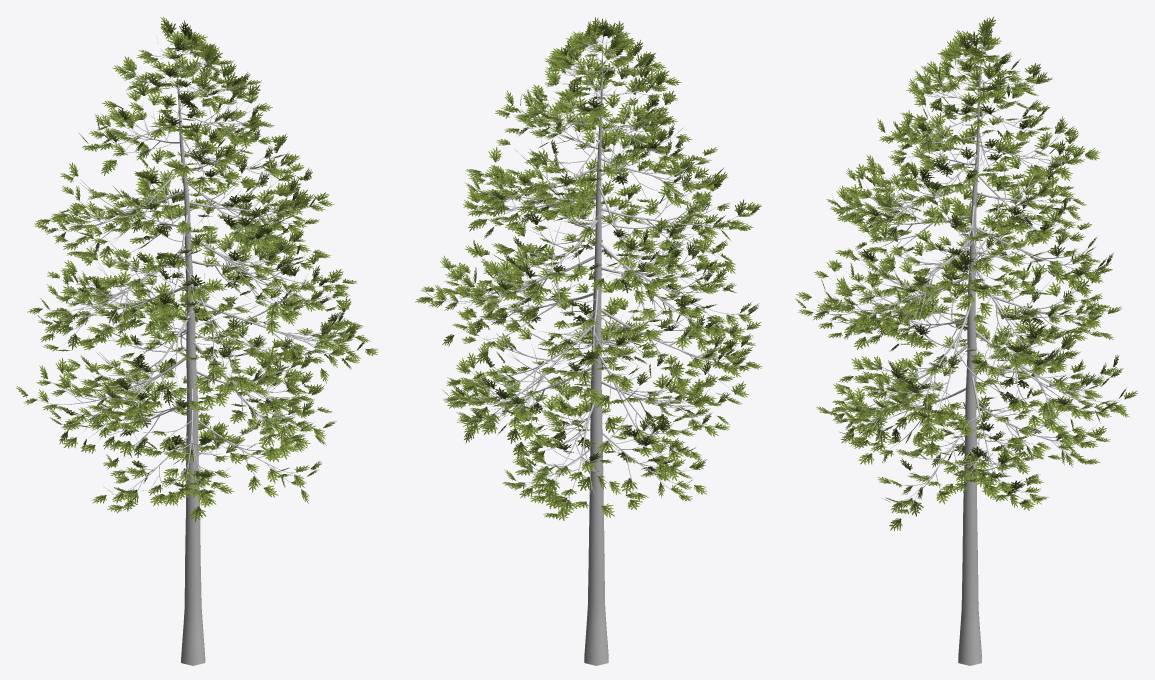
Rendered from Arbol4.fbx.
3 renders of one model, left to right at view 1: azimuth 30°, elevation 25°; view 2: azimuth 150°, elevation 25°; view 3: azimuth 270°, elevation 25°, orthographic. The views are drawn at different scales.
Parts seen in each view (by area): view 1: leaves.003, tree.003; view 2: leaves.003, tree.003; view 3: leaves.003, tree.003.
Part boxes in pixels (x1=…): leaves.003: x1=16, y1=16, x2=378, y2=522; tree.003: x1=33, y1=34, x2=360, y2=665; leaves.003: x1=415, y1=17, x2=762, y2=520; tree.003: x1=437, y1=31, x2=744, y2=665; leaves.003: x1=795, y1=16, x2=1137, y2=530; tree.003: x1=811, y1=31, x2=1118, y2=665.
Bounding box in the file's own units: 3.56 × 7.04 × 3.49.
